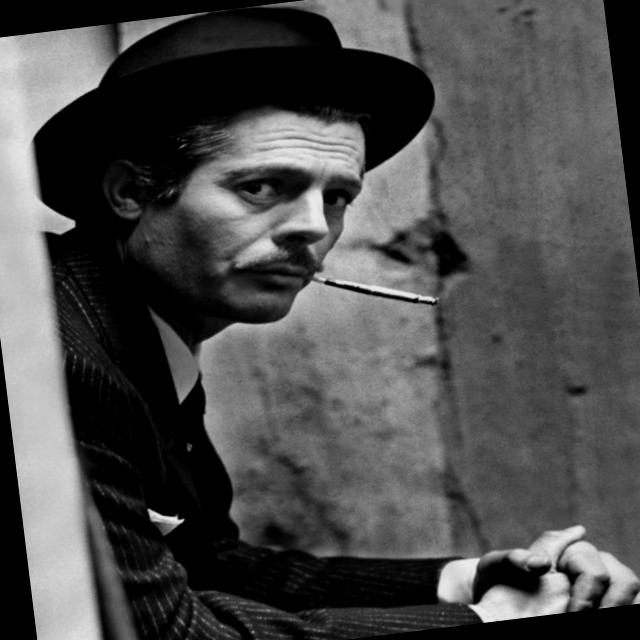cigarette: (294, 248, 467, 330)
